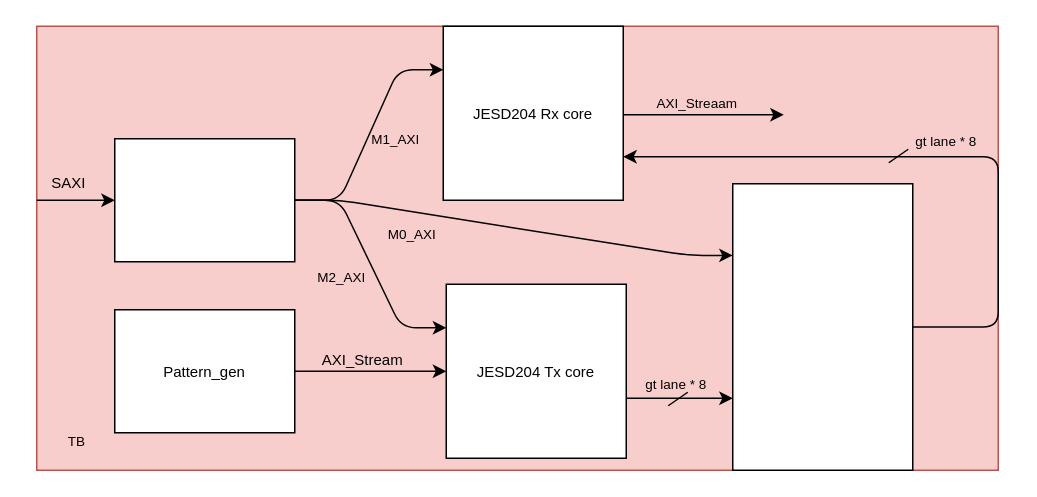
Image size: 1037x497. Some labels were removed from this diagram. Each missing label, with the centre of its shape:
"AXI_interconnect" belongs at (x=204, y=199).
"JESD204C PHY" belongs at (x=822, y=326).
